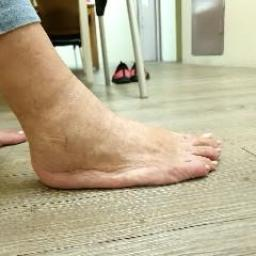Lateral View -Right Foot-: (12, 71, 238, 210)
